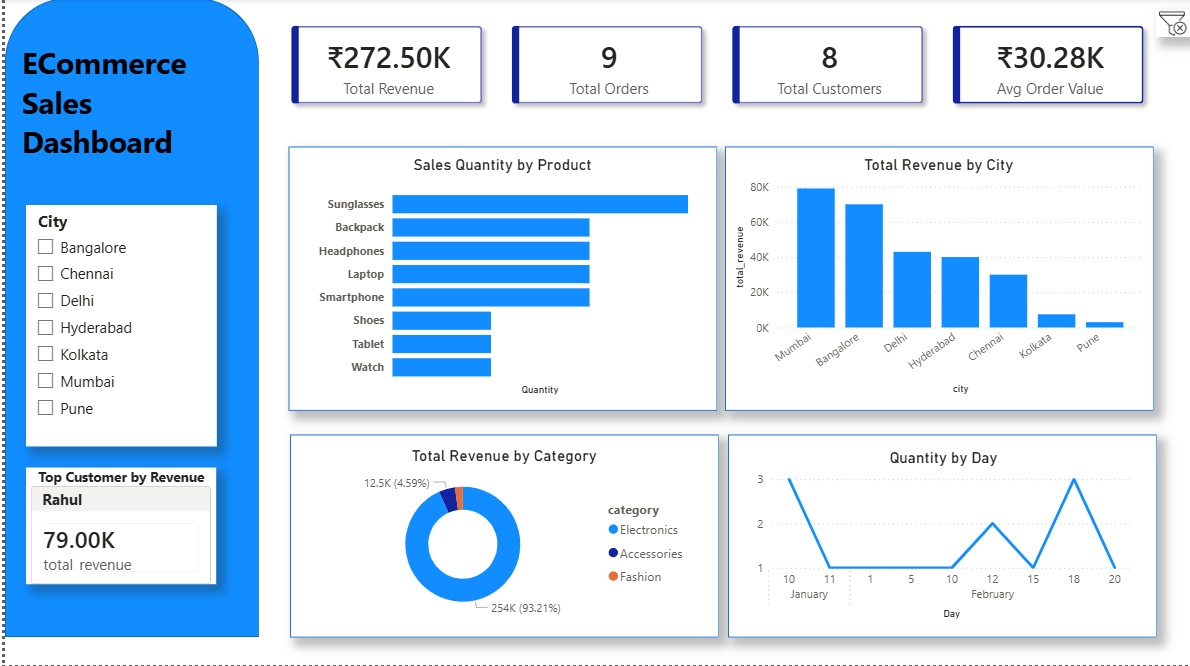

Layout of this report page (visuals, bound fields, positions):
{"tool":"powerbi","page":{"name":"Page 1","canvas":[1280,720],"ordinal":0},"visuals":[{"type":"cardVisual","fields":{"Data":["ecommerce_dataset customers.total_revenue","customers.total_orders","customers.total_customers","customers.avg_order_value"]},"box":[259.1,0,1020.1,144.1],"z":0},{"type":"shape","box":[306.1,160.6,463,285.4],"z":1000},{"type":"barChart","title":"Sales Quantity by Product","fields":{"Category":["products.product_name"],"Y":["Sum(order_details.quantity)"]},"box":[332.6,170.1,410.1,262.7],"z":2000},{"type":"shape","box":[776.7,160.6,463,285.4],"z":3000},{"type":"shape","box":[308,470.6,463,219.2],"z":4000},{"type":"donutChart","title":"Total Revenue by Category","fields":{"Category":["products.category"],"Y":["customers.total_revenue"]},"box":[332.6,483.8,413.9,190.9],"z":5000},{"type":"shape","box":[0,0,274,689.8],"z":6000},{"type":"columnChart","title":"Total Revenue by City","fields":{"Category":["customers.city"],"Y":["customers.total_revenue"]},"box":[782.1,170,451.8,262.3],"z":7000},{"type":"shape","box":[780.5,470.6,463,219.2],"z":8000},{"type":"lineChart","title":"Quantity by Day","fields":{"Category":["orders.order_date.Variation.Date Hierarchy.Month","orders.order_date.Variation.Date Hierarchy.Day"],"Y":["Sum(order_details.quantity)"]},"box":[806.9,485.7,413.9,189],"z":9000},{"type":"textbox","box":[13.2,41.6,215.4,149.3],"z":10000},{"type":"slicer","fields":{"Values":["customers.city"]},"box":[22.7,223,206,260.8],"z":10501},{"type":"cardVisual","title":"Top Customer by Revenue","fields":{"Rows":["customers.customer_name"],"Data":["customers.total_revenue"]},"box":[22.7,506.8,205.6,126.3],"z":11002},{"type":"image","box":[1241.9,13,37.2,29.1],"z":11503}]}

Visuals, with their boxes in screenshot pixels (x1, y1, x2, y2), scaled from the page's 1280x720 canvas onto the 1190x666 screenshot:
cardVisual - ecommerce_dataset customers.total_revenue x customers.total_orders: l=241, t=0, r=1189, b=133
shape: l=285, t=149, r=715, b=413
"Sales Quantity by Product" barChart: l=309, t=157, r=690, b=400
shape: l=722, t=149, r=1153, b=413
shape: l=286, t=435, r=717, b=638
"Total Revenue by Category" donutChart: l=309, t=448, r=694, b=624
shape: l=0, t=0, r=255, b=638
"Total Revenue by City" columnChart: l=727, t=157, r=1147, b=400
shape: l=726, t=435, r=1156, b=638
"Quantity by Day" lineChart: l=750, t=449, r=1135, b=624
textbox: l=12, t=38, r=213, b=177
slicer - customers.city: l=21, t=206, r=213, b=448
"Top Customer by Revenue" cardVisual: l=21, t=469, r=212, b=586
image: l=1155, t=12, r=1189, b=39
